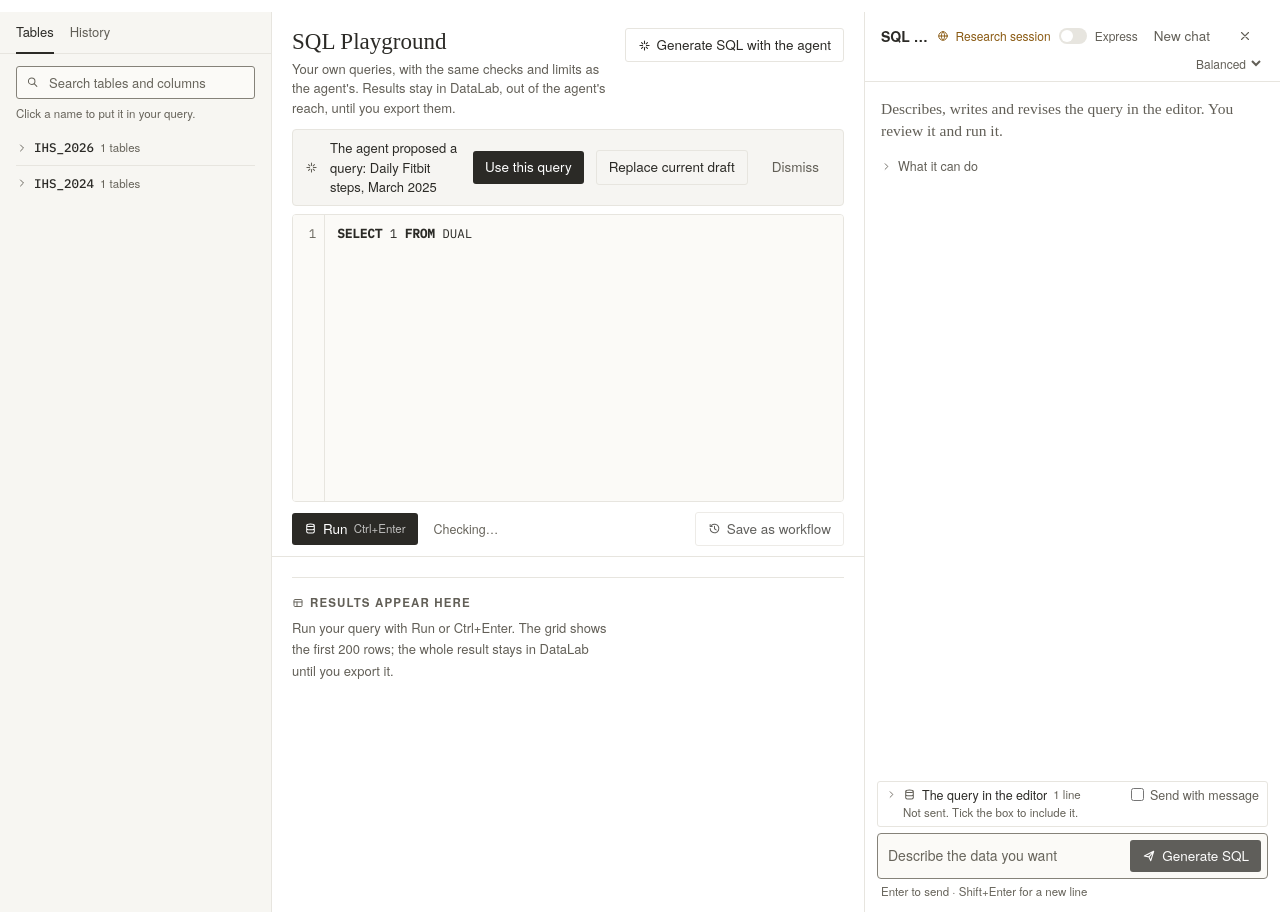
Test case: offers the proposal beside the person's work: Use this query keeps the draft, Replace doesn't
Expected: the text "Daily Fitbit steps, March 2025" is shown, [330, 158, 437, 196]
Click the button "Use this query": (528, 168) [473, 151, 584, 184]
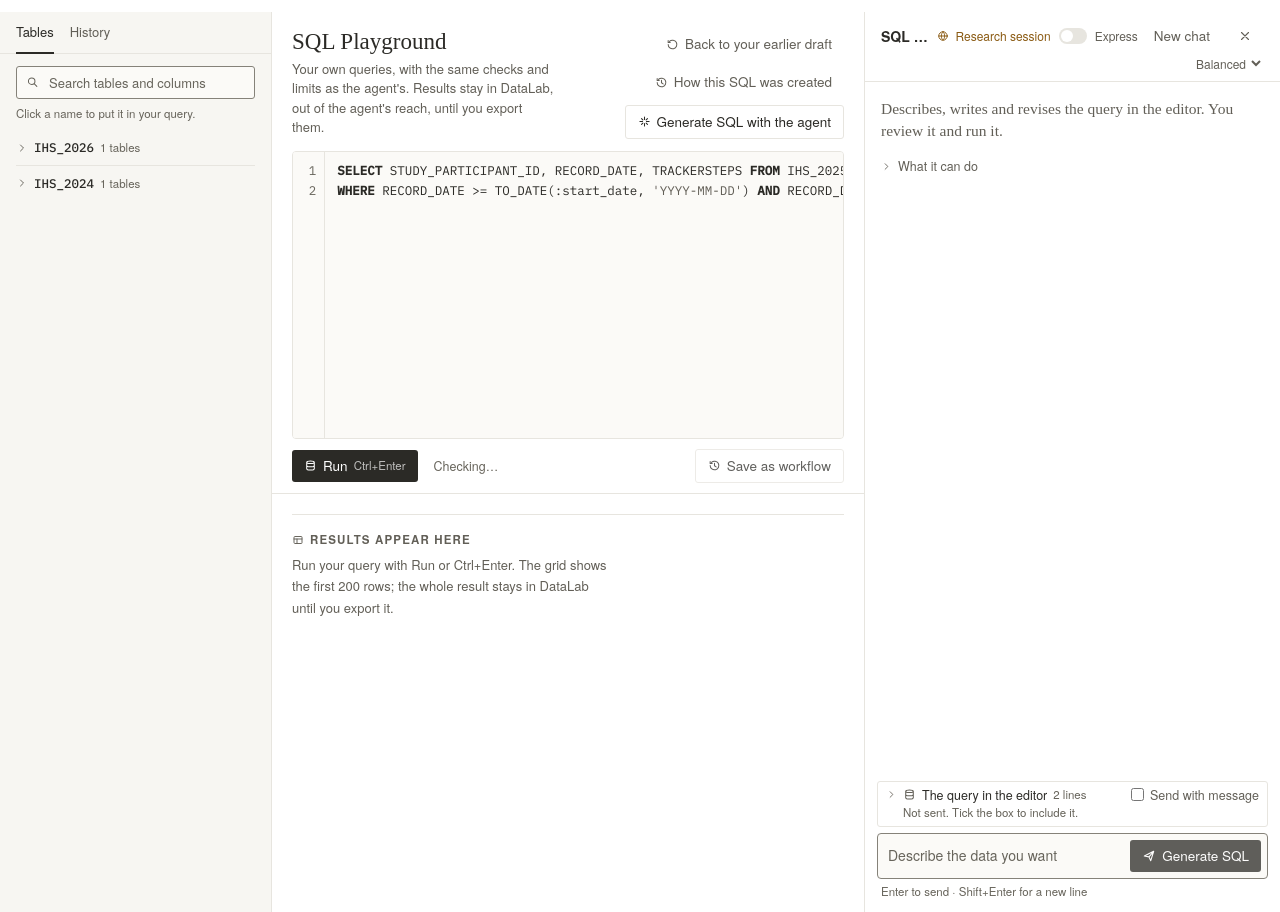
Click the button "Back to your earlier draft": (749, 44) [654, 28, 844, 60]
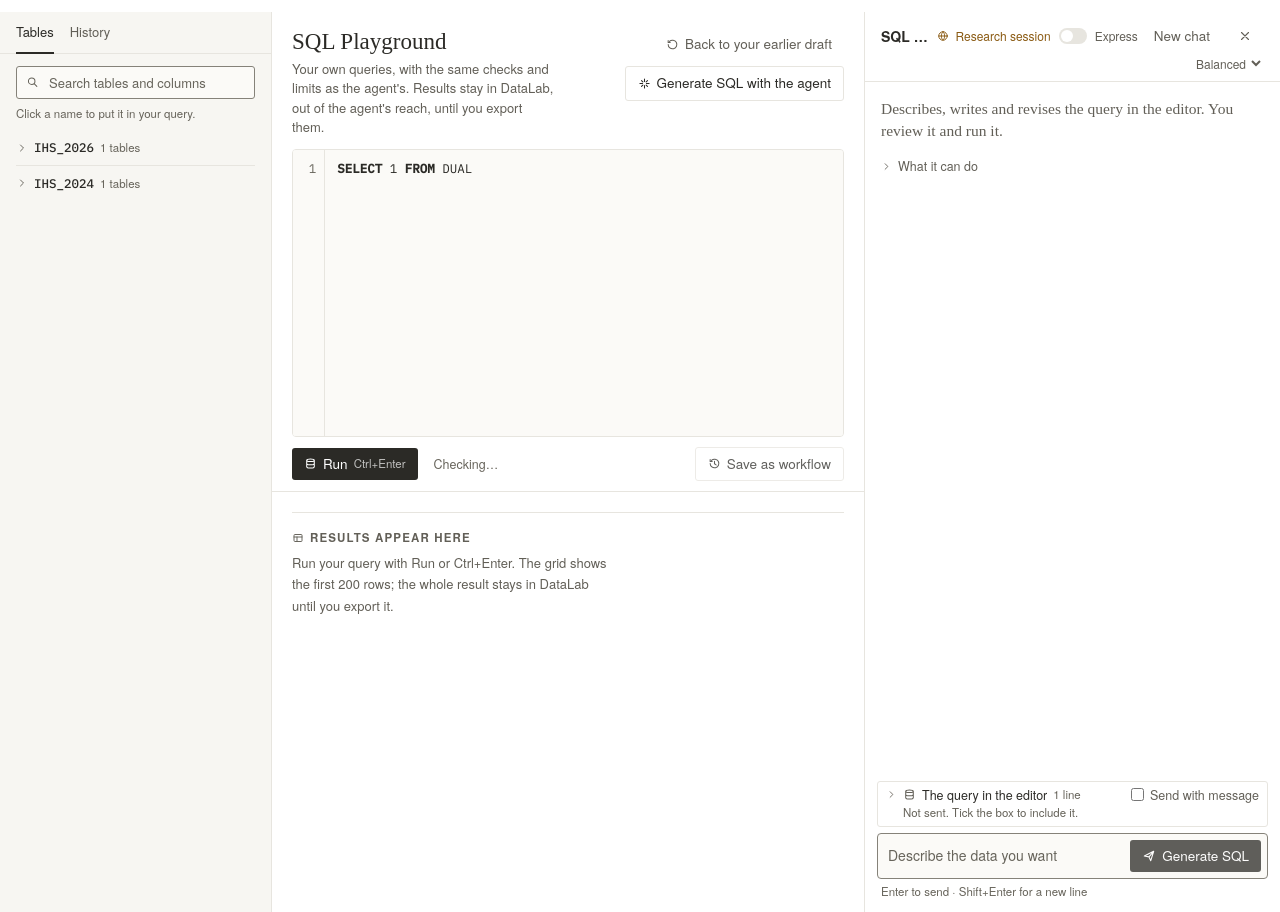
Now the text box labelled "SELECT 1 FROM DUAL" is shown, box [337, 160, 472, 176]
